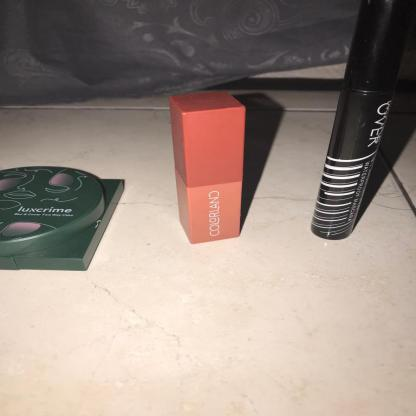lipstick: (140, 84, 289, 280)
